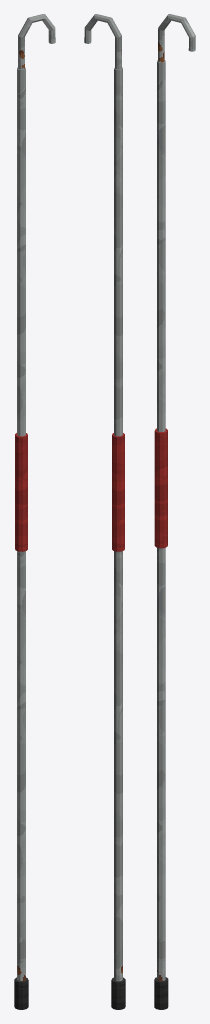
Rendered from gk_hookpole.glb.
The picture shows the model from 3 angles, left to right: view 1: azimuth 30°, elevation 25°; view 2: azimuth 150°, elevation 25°; view 3: azimuth 330°, elevation 25°; orthographic projection.
Visible parts, largest first — view 1: p; view 2: p; view 3: p.
Boxes of the visible parts, box(x1,y1,x2,y2) form: p: box(14, 14, 55, 1009); p: box(84, 14, 125, 1009); p: box(154, 14, 195, 1009).
Size of the model in its own units: 0.091 by 2.16 by 0.0266.
3 materials, 3 textured.
